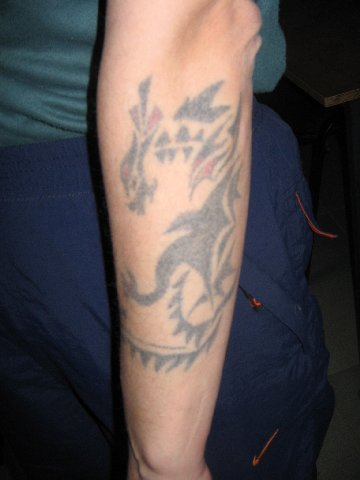tatu6_drakon: (89, 63, 254, 383)
